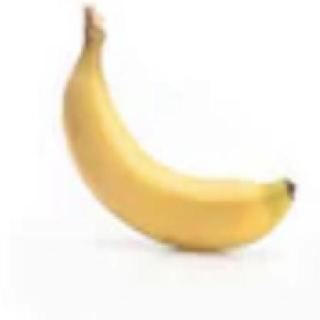banana: (58, 64, 300, 255)
